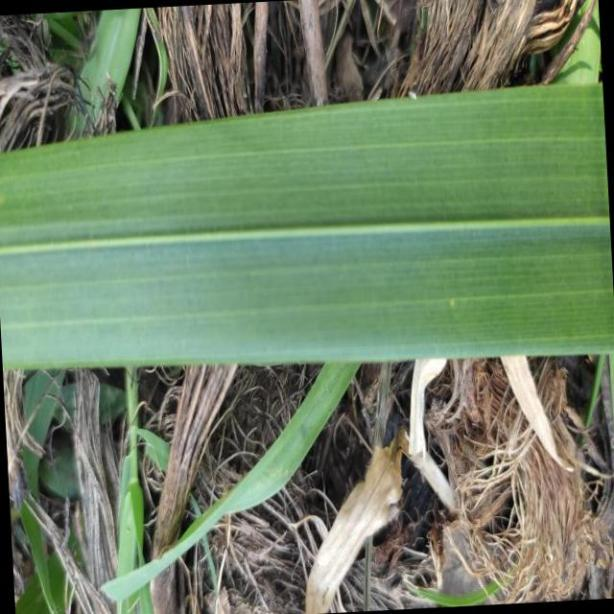Healthy: (0, 80, 614, 372)
